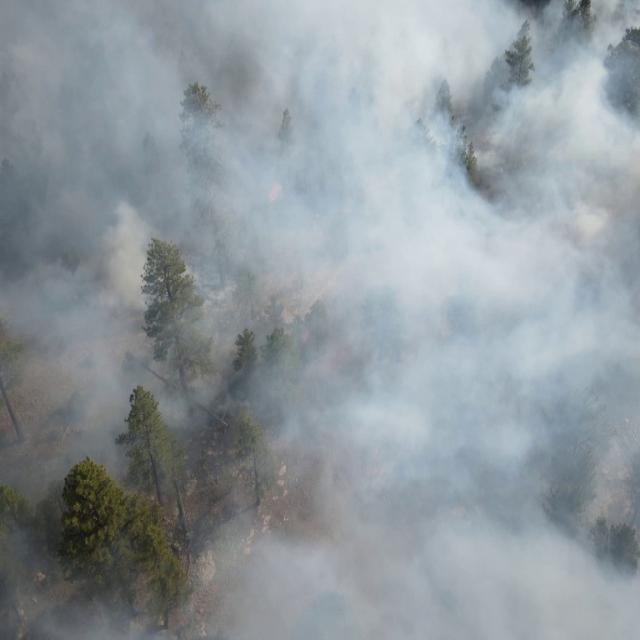fire: (266, 180, 282, 204)
smoke: (0, 1, 640, 640)
